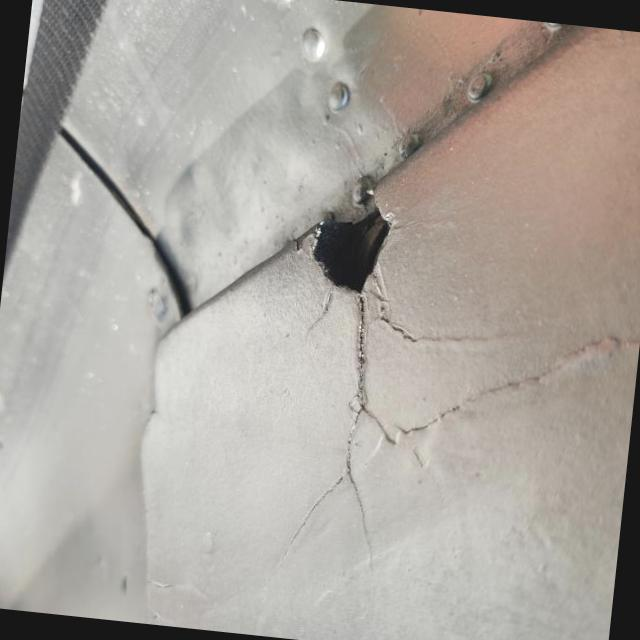crack: (206, 148, 485, 588)
